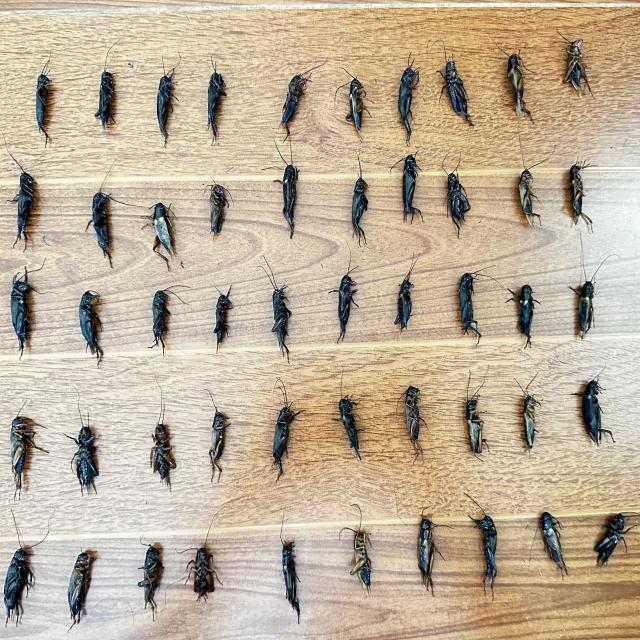no: (10, 414, 48, 495), (4, 547, 34, 626), (438, 60, 473, 126), (10, 268, 33, 359), (68, 551, 95, 628), (272, 406, 299, 482), (582, 379, 612, 446), (474, 515, 497, 599), (9, 171, 34, 248), (71, 425, 99, 493), (138, 545, 163, 621), (88, 191, 112, 267), (594, 513, 628, 566), (331, 274, 357, 342), (399, 57, 419, 144), (79, 291, 103, 363), (151, 422, 176, 488), (281, 75, 308, 135), (186, 547, 215, 602), (569, 162, 592, 231), (508, 53, 532, 119), (541, 511, 566, 574), (447, 172, 470, 237), (209, 407, 229, 481), (282, 542, 300, 623), (563, 39, 588, 97), (157, 69, 176, 145), (459, 273, 481, 338), (271, 286, 291, 354), (339, 398, 361, 459), (208, 71, 226, 143), (351, 530, 371, 594), (403, 155, 422, 221), (405, 386, 422, 458), (418, 517, 435, 589), (94, 70, 114, 129), (346, 77, 366, 136), (151, 291, 169, 356), (394, 272, 414, 330), (213, 290, 232, 351), (519, 169, 540, 224), (283, 164, 298, 238), (36, 68, 50, 147), (576, 280, 595, 338), (520, 393, 539, 451), (518, 285, 536, 346), (352, 177, 368, 244), (209, 184, 228, 236), (466, 398, 483, 454), (154, 203, 172, 254)
